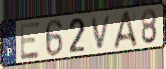2: (68, 16, 89, 55)
6: (44, 18, 64, 58)
8: (140, 8, 158, 46)
A: (113, 9, 139, 51)
E: (19, 20, 41, 62)
V: (90, 14, 113, 51)
